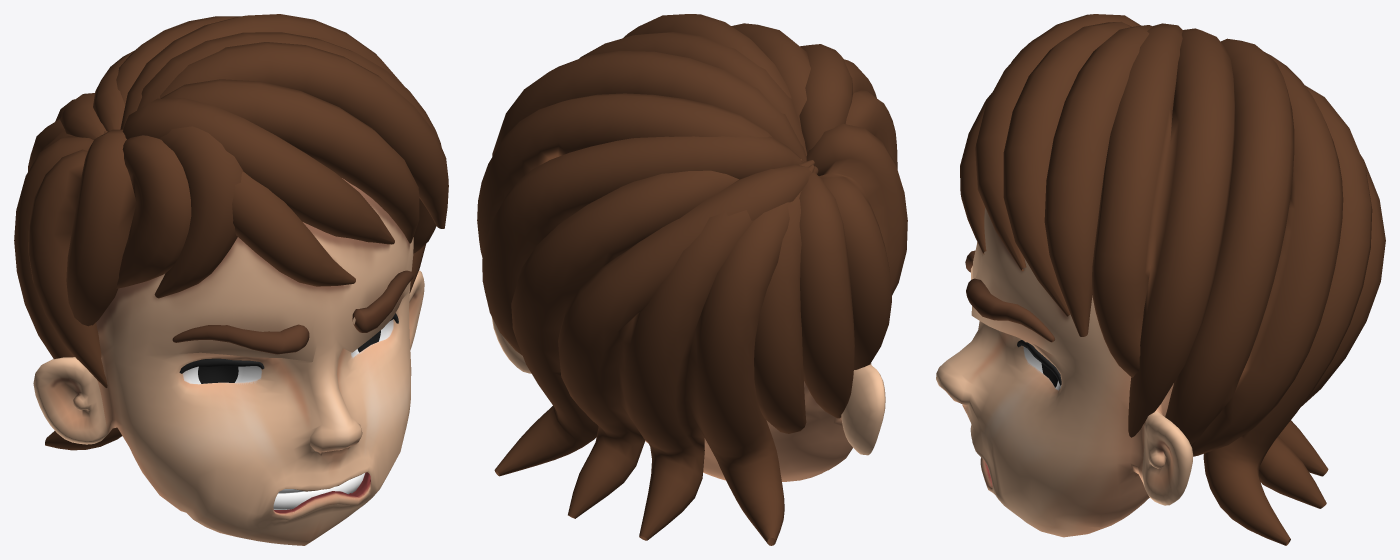
The model's file is KidWorry.glb.
3 views of the same model, side by side, from view 1: azimuth 30°, elevation 25°; view 2: azimuth 150°, elevation 25°; view 3: azimuth 270°, elevation 25° (orthographic). The views are drawn at different scales.
Parts seen in each view (by area): view 1: BézierCurve.010, Cube.001, Cube.003; view 2: BézierCurve.010, Cube.001; view 3: BézierCurve.010, Cube.001.
Boxes of the visible parts, left/top/right/bottom form: BézierCurve.010: left=14, top=14, right=448, bottom=450; Cube.001: left=33, top=178, right=424, bottom=545; Cube.003: left=179, top=313, right=398, bottom=373; BézierCurve.010: left=477, top=14, right=907, bottom=545; Cube.001: left=492, top=317, right=885, bottom=481; BézierCurve.010: left=960, top=14, right=1385, bottom=545; Cube.001: left=936, top=207, right=1193, bottom=537.
Bounding box in the file's own units: 0.479 × 0.5499 × 0.4585.
3 materials, 2 textured.
